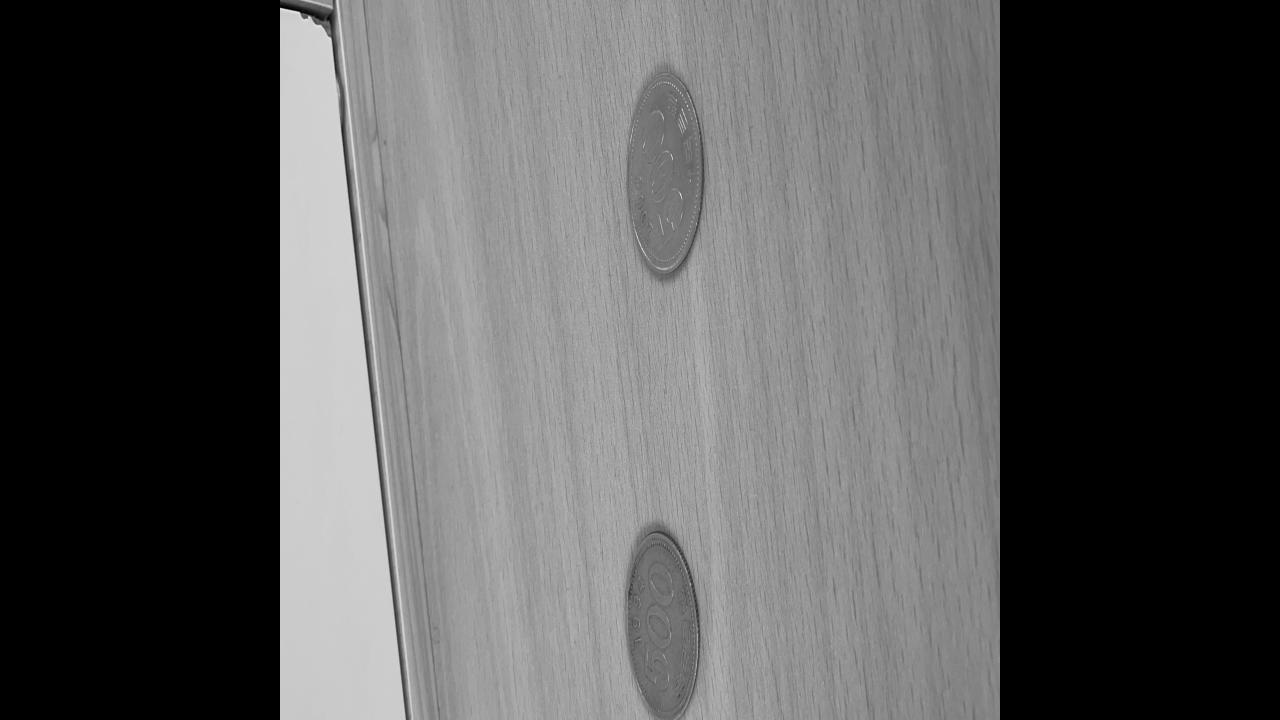coin: (626, 71, 704, 276), (626, 528, 700, 720)
